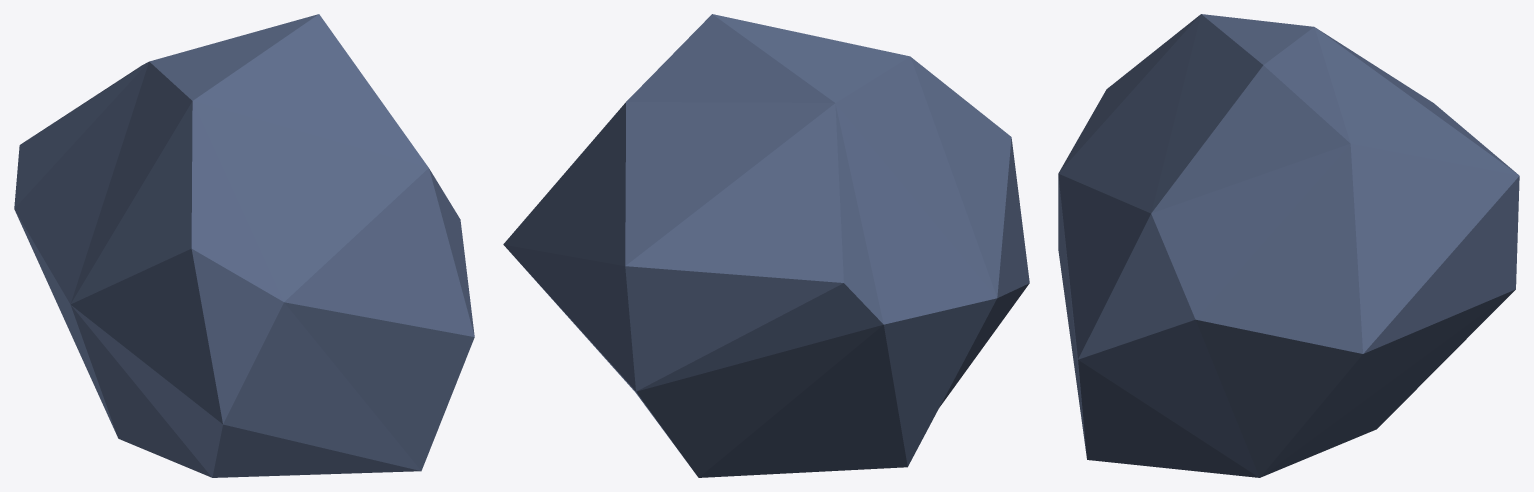
File: Rock01.fbx
The picture shows the model from 3 angles, left to right: view 1: azimuth 30°, elevation 25°; view 2: azimuth 150°, elevation 25°; view 3: azimuth 270°, elevation 25°; orthographic projection. The views are drawn at different scales.
Parts seen in each view (by area): view 1: Rock_01; view 2: Rock_01; view 3: Rock_01.
Part boxes in pixels (bbox=[...]): Rock_01: bbox=[14, 14, 474, 477]; Rock_01: bbox=[503, 14, 1029, 477]; Rock_01: bbox=[1058, 14, 1519, 477].
Size of the model in its own units: 79.82 by 73.32 by 78.88.
